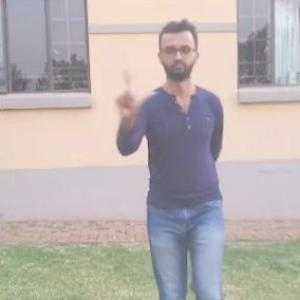land_hand: (110, 62, 155, 121)
